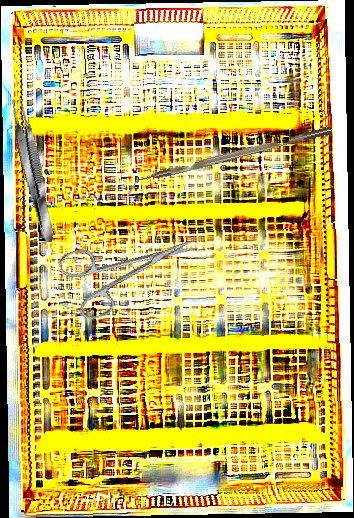Chopper: (124, 126, 335, 195)
Iris Scissors: (56, 212, 209, 325)
Tissue Forceps: (5, 96, 60, 245)
